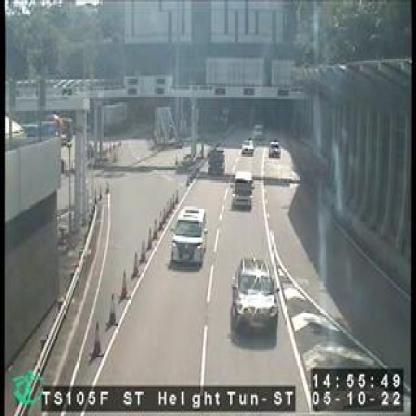Bus: (232, 172, 252, 208)
Car: (230, 258, 274, 333), (170, 203, 206, 263), (268, 140, 279, 158), (241, 137, 252, 154)
Truck: (207, 146, 224, 175)
